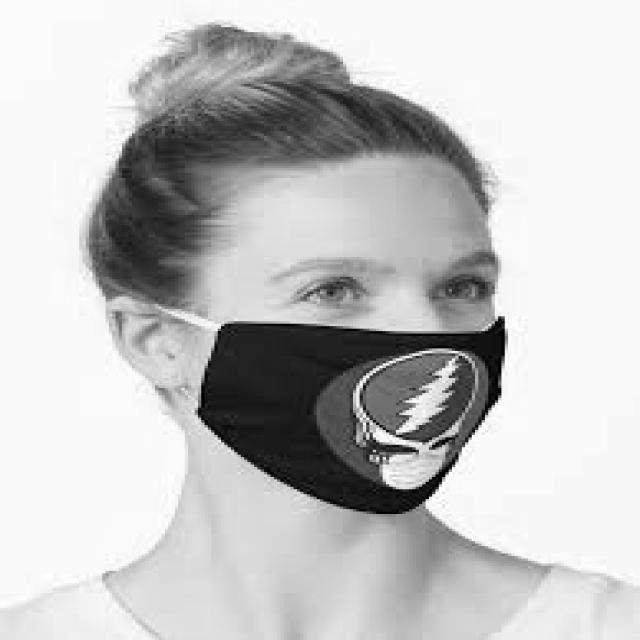fake: (193, 311, 510, 520)
real: (197, 158, 504, 528)
